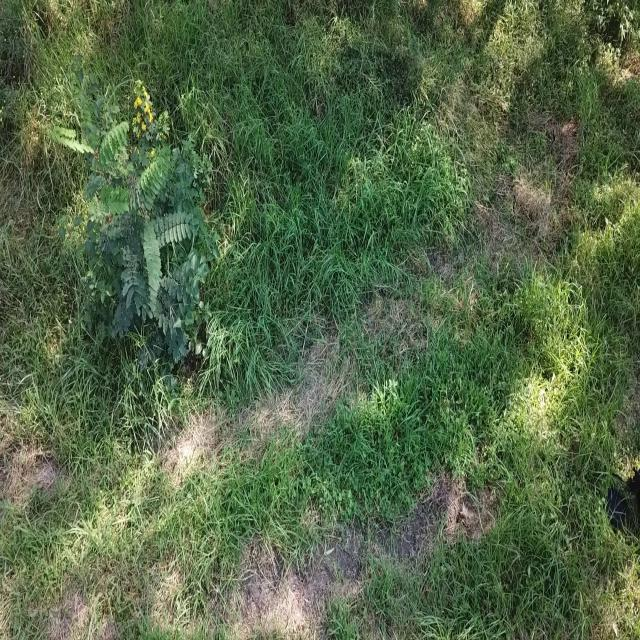Mysore-Thorn-Weed: (72, 77, 216, 404)
